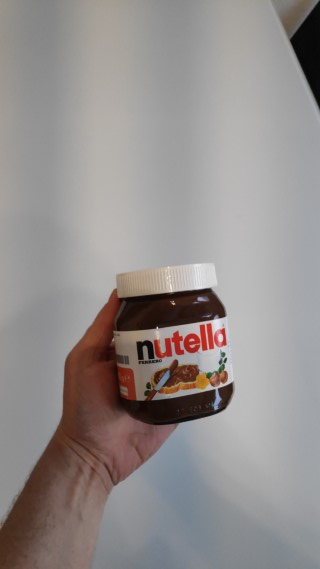nutella: (111, 259, 236, 426)
